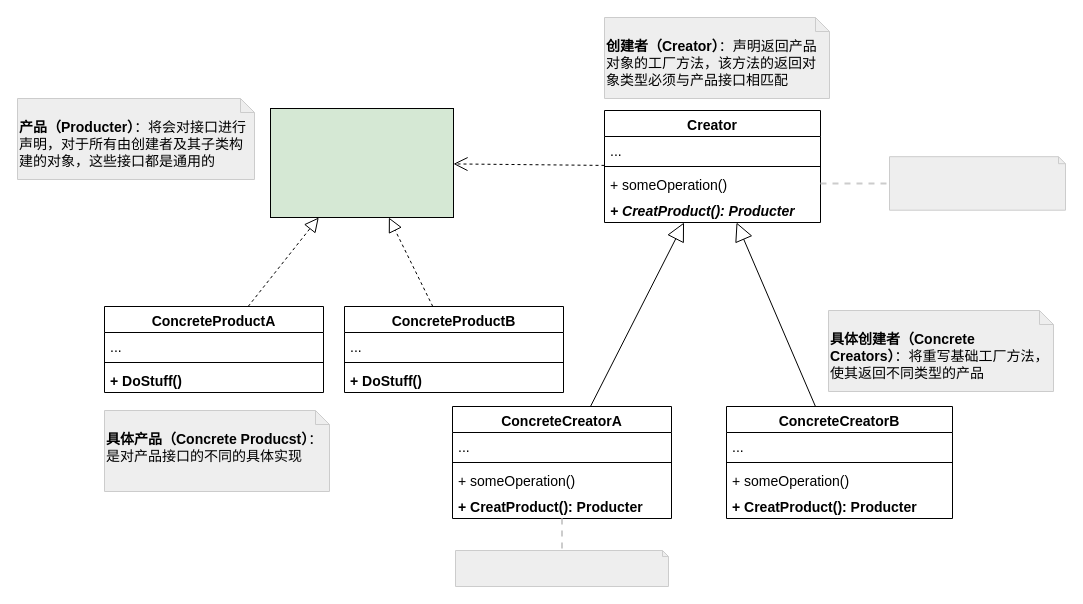
Some shapes in this 1083 by 604 pixel diagram are drawn without their labels. Here are the shapes that lost their labels. From the top down, the centre of each, then its label:
the point at 362,163: <<Interface>> Producter + DoStuff ()
the point at 977,183: Product p = CreatProduct() p.DoStuff()
the point at 561,568: return new ConcreteProductA()
